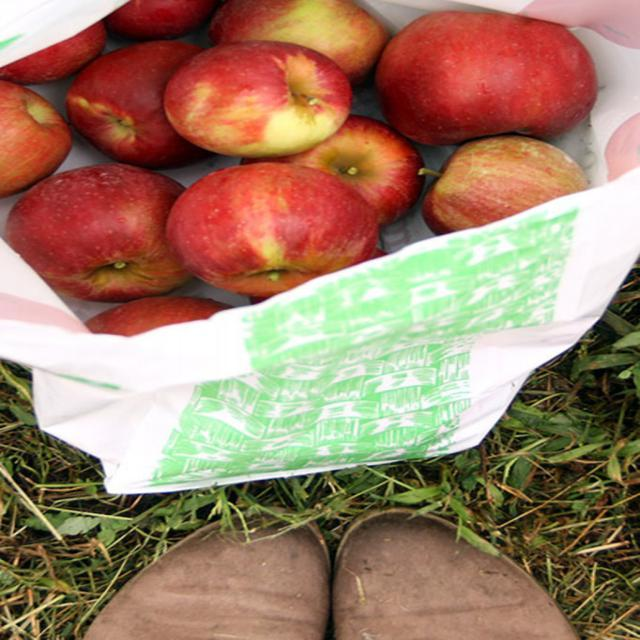Apple pie: (0, 0, 588, 337), (372, 10, 596, 134)
